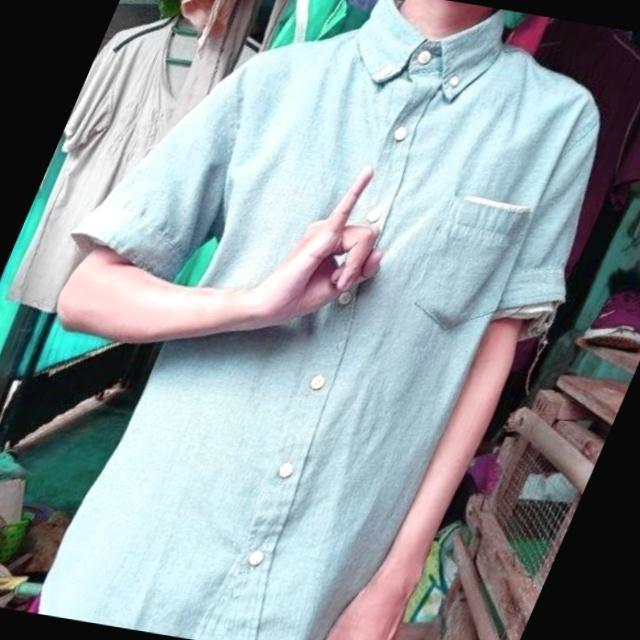I: (252, 134, 401, 348)
